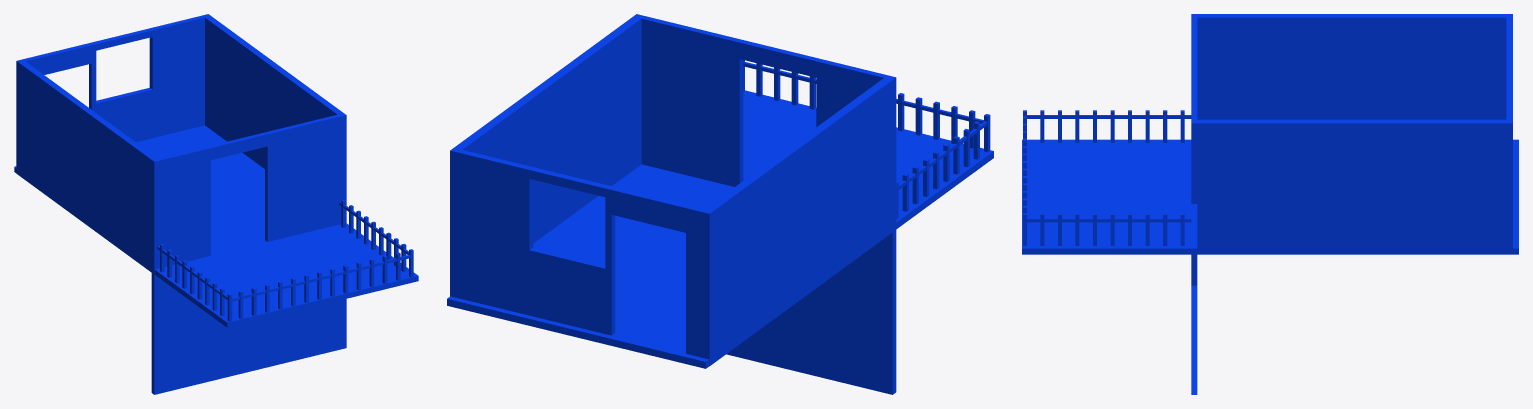
The model's file is Room.FBX.
3 renders of one model, left to right at view 1: azimuth 30°, elevation 25°; view 2: azimuth 150°, elevation 25°; view 3: azimuth 270°, elevation 25°, orthographic. The views are drawn at different scales.
Visible parts, largest first — view 1: Room; view 2: Room; view 3: Room.
Part boxes in pixels (left/top/right/bottom): Room: left=14, top=14, right=418, bottom=394; Room: left=447, top=14, right=993, bottom=394; Room: left=1022, top=14, right=1518, bottom=394.
Bounding box in the file's own units: 187 × 360 × 217.
